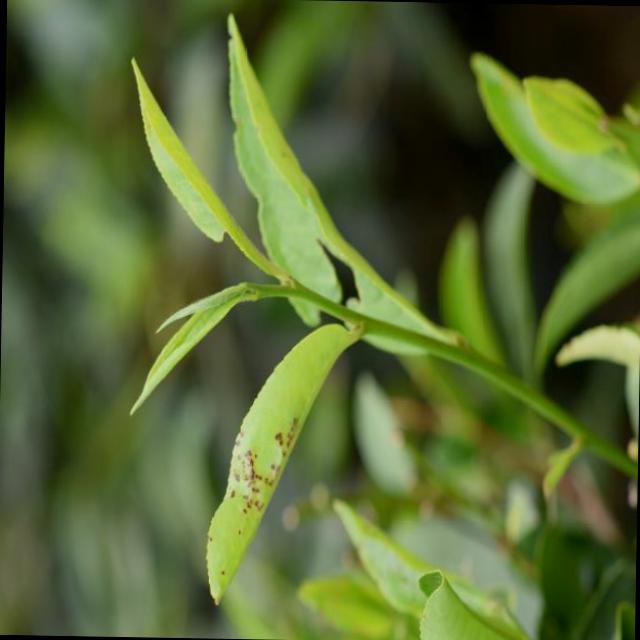Stem: (297, 285, 332, 315)
